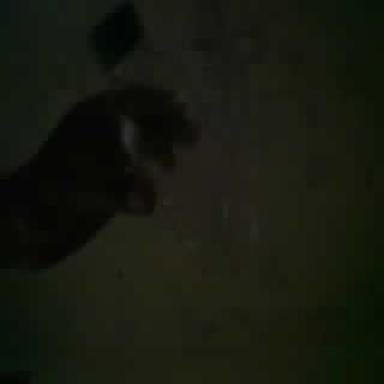bottle: (80, 0, 293, 313)
